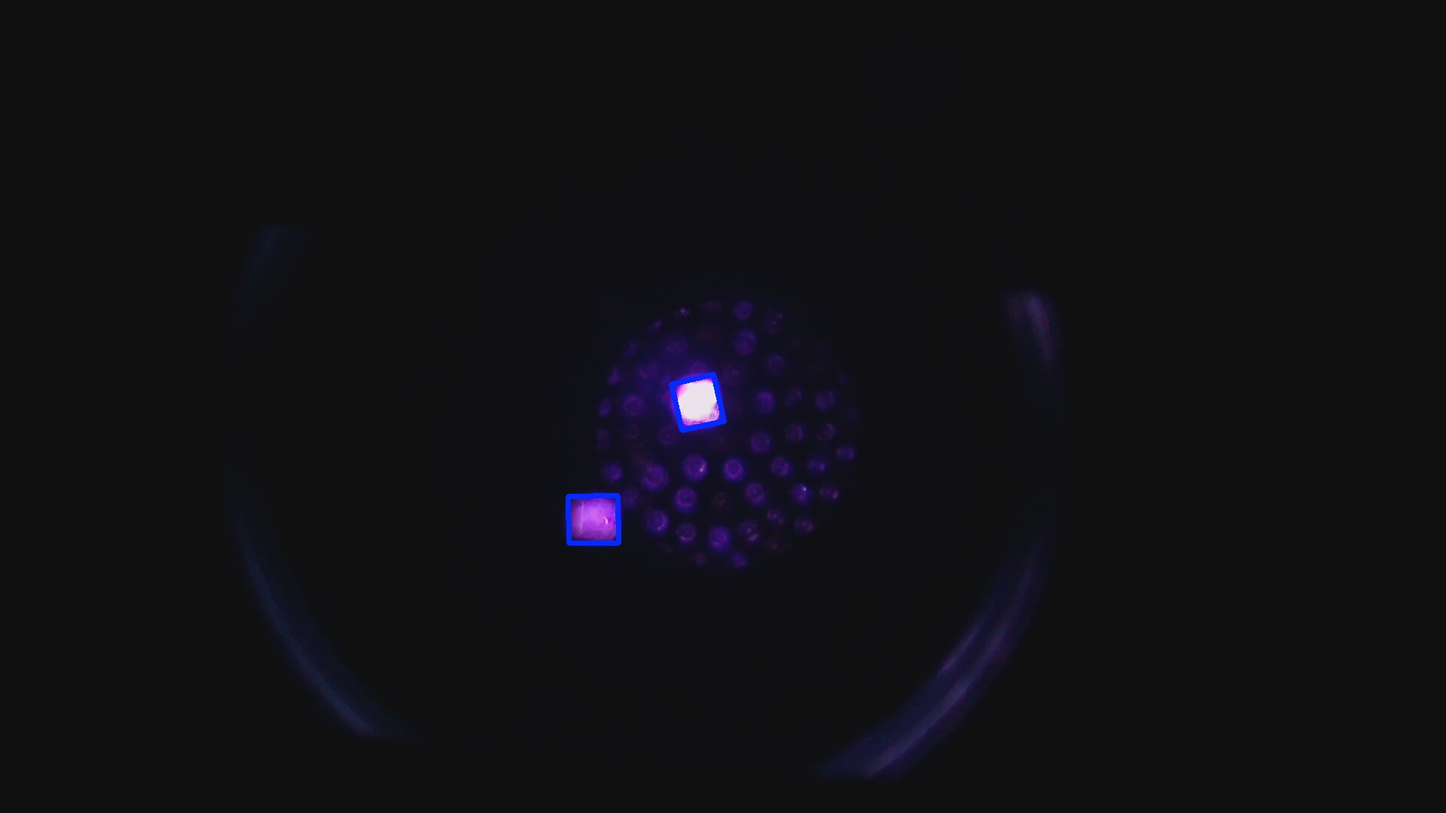plastic: (668, 372, 728, 434), (568, 496, 619, 543)
